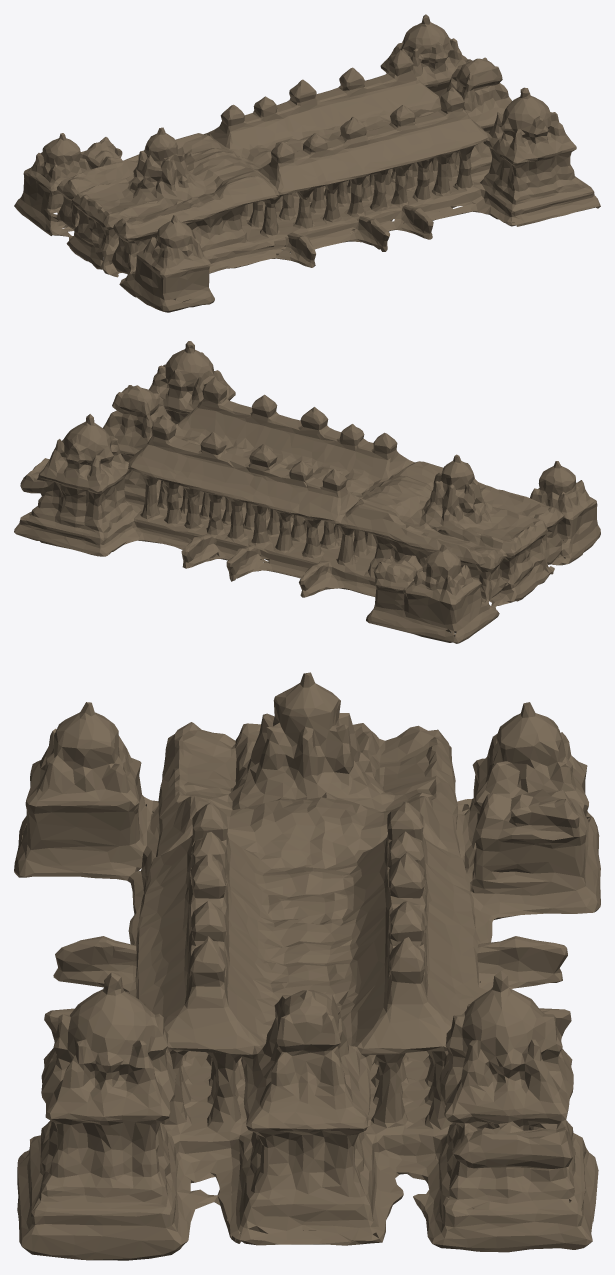
The model's file is Krishna Temple.glb.
3 views of the same model, one above another, from view 1: azimuth 30°, elevation 25°; view 2: azimuth 150°, elevation 25°; view 3: azimuth 270°, elevation 25° (orthographic). The views are drawn at different scales.
Parts seen in each view (by area): view 1: tmpi4vthu40.ply; view 2: tmpi4vthu40.ply; view 3: tmpi4vthu40.ply.
Boxes of the visible parts, x1,y1,x2,y2 form: tmpi4vthu40.ply: (14,14,600,312); tmpi4vthu40.ply: (14,341,600,643); tmpi4vthu40.ply: (14,672,600,1260).
Bounding box in the file's own units: 1.96 × 0.5176 × 1.15.
